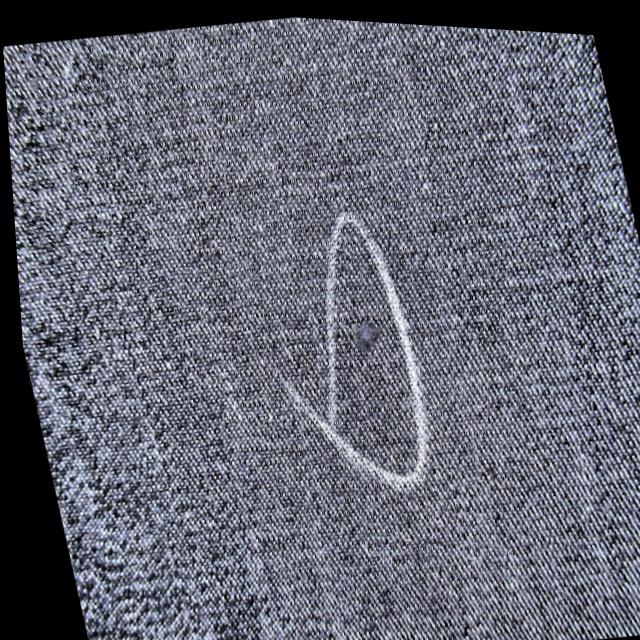Hole: (337, 294, 393, 379)
